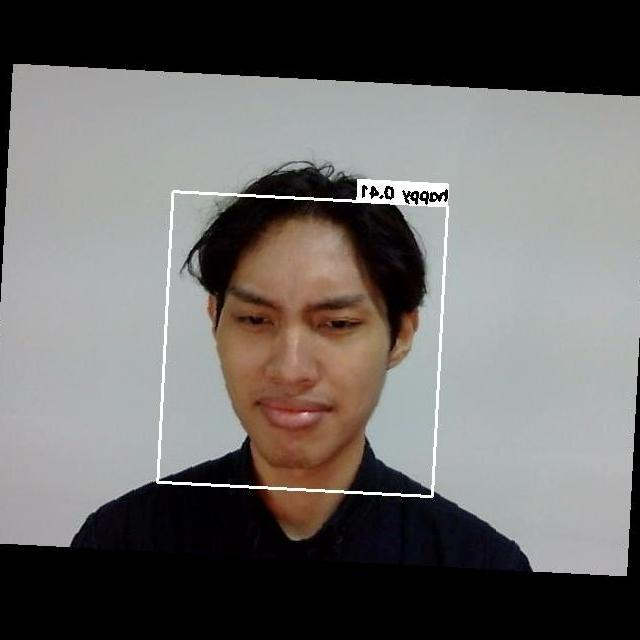Disgust: (214, 255, 396, 444)
